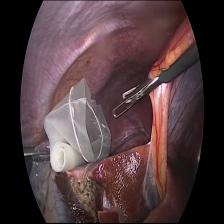Grasper: (111, 74, 158, 123), (24, 142, 53, 168)
Specimen Bag: (42, 78, 112, 183)
